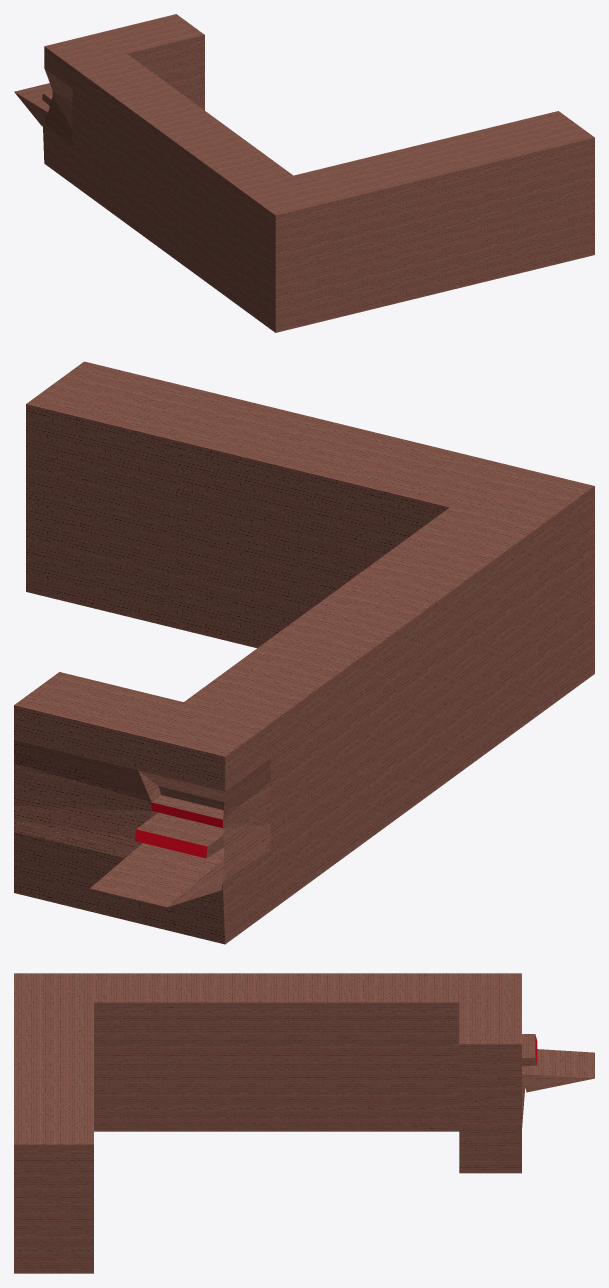
The model's file is poolday_lvl_stage1_1.glb.
3 renders of one model, top to bottom at view 1: azimuth 30°, elevation 25°; view 2: azimuth 150°, elevation 25°; view 3: azimuth 270°, elevation 25°, orthographic. The views are drawn at different scales.
Visible parts, largest first — view 1: stage; view 2: stage; view 3: stage.
Boxes of the visible parts, box(x1,y1,x2,y2) form: stage: box(14, 14, 594, 332); stage: box(14, 361, 594, 944); stage: box(14, 973, 594, 1273).
Bounding box in the file's own units: 61.04 × 21.44 × 87.56.
2 materials, 1 textured.
